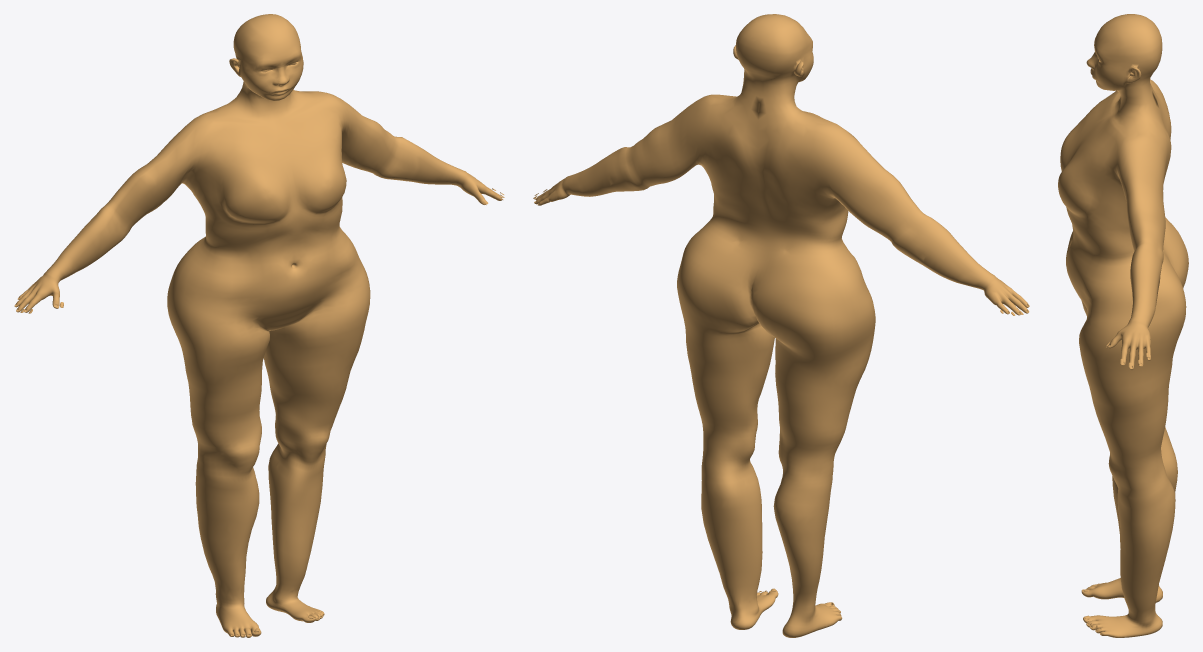
File: female_XXL_3.glb
The picture shows the model from 3 angles, left to right: view 1: azimuth 30°, elevation 25°; view 2: azimuth 150°, elevation 25°; view 3: azimuth 270°, elevation 25°; orthographic projection.
Parts seen in each view (by area): view 1: Body; view 2: Body; view 3: Body.
Boxes of the visible parts, x1=… form: Body: x1=14, y1=14, x2=503, y2=637; Body: x1=534, y1=14, x2=1029, y2=637; Body: x1=1058, y1=14, x2=1188, y2=637.
Size of the model in its own units: 1.59 by 1.88 by 0.3691.
